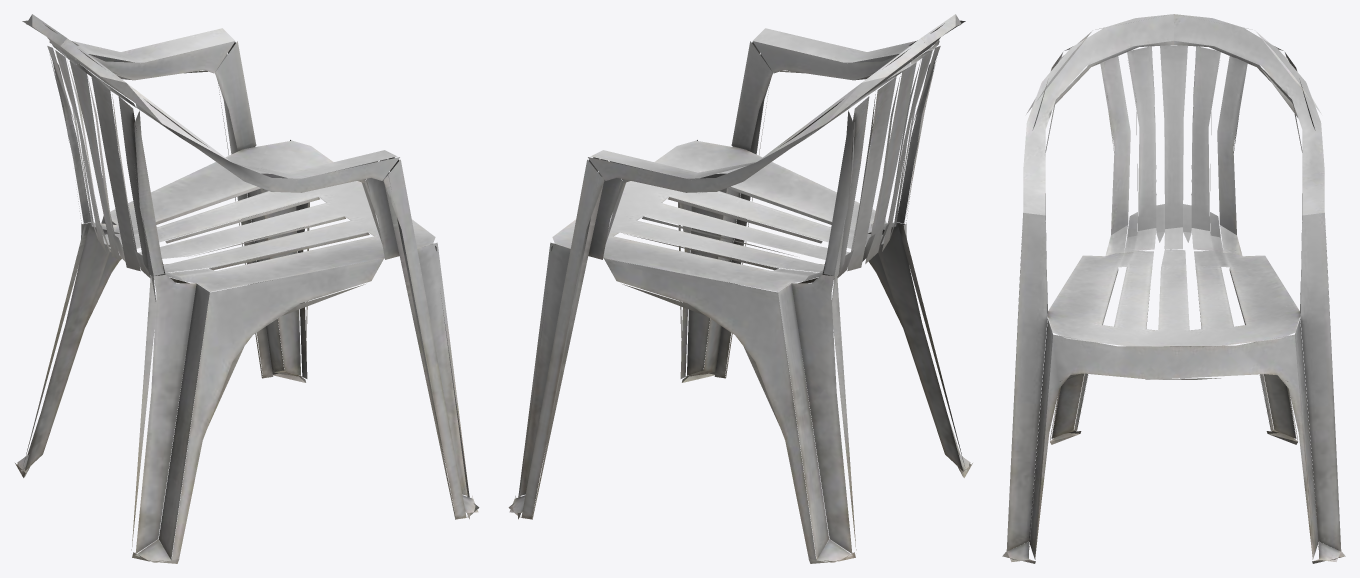
Rendered from chair.glb.
3 renders of one model, left to right at view 1: azimuth 30°, elevation 25°; view 2: azimuth 150°, elevation 25°; view 3: azimuth 270°, elevation 25°, orthographic. The views are drawn at different scales.
Visible parts, largest first — view 1: chair; view 2: chair; view 3: chair.
Part boxes in pixels (left/top/right/bottom): chair: left=15, top=14, right=479, bottom=563; chair: left=508, top=14, right=972, bottom=563; chair: left=1002, top=14, right=1345, bottom=563.
Bounding box in the file's own units: 0.6347 × 0.8816 × 0.6602.
Materials: 1 (1 with a texture image).
